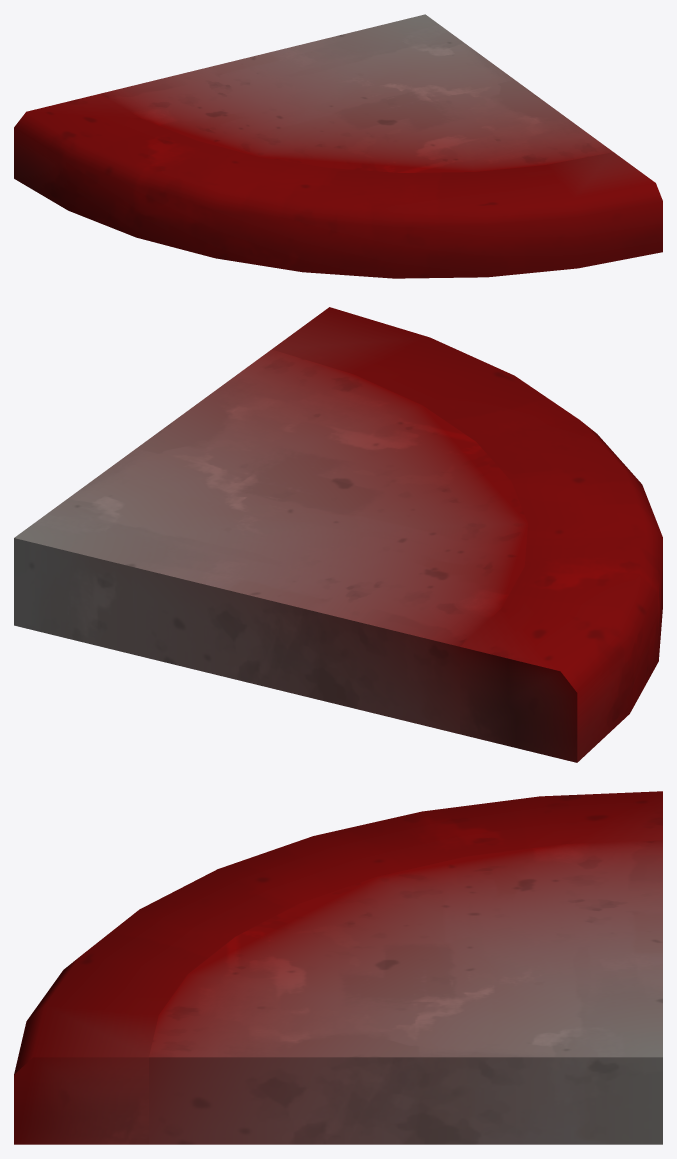
Rendered from Sidewalk_Corner_Round_1m.gltf.
3 renders of one model, top to bottom at view 1: azimuth 30°, elevation 25°; view 2: azimuth 150°, elevation 25°; view 3: azimuth 270°, elevation 25°, orthographic. The views are drawn at different scales.
Parts seen in each view (by area): view 1: Sidewalk_Corner_Round_1m; view 2: Sidewalk_Corner_Round_1m; view 3: Sidewalk_Corner_Round_1m.
Part boxes in pixels (box(x1,y1,x2,y2)): Sidewalk_Corner_Round_1m: box(14, 14, 662, 278); Sidewalk_Corner_Round_1m: box(14, 307, 662, 762); Sidewalk_Corner_Round_1m: box(14, 791, 662, 1144).
Size of the model in its own units: 1.01 by 0.15 by 1.01.
Materials: 1 (1 with a texture image).
